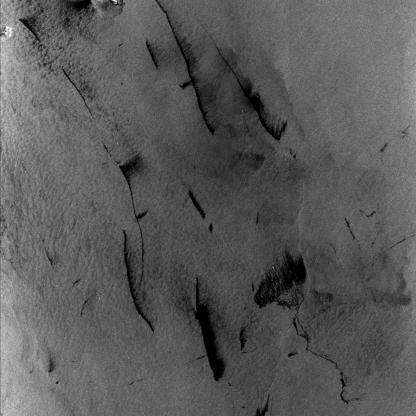oil: (23, 10, 326, 393)
